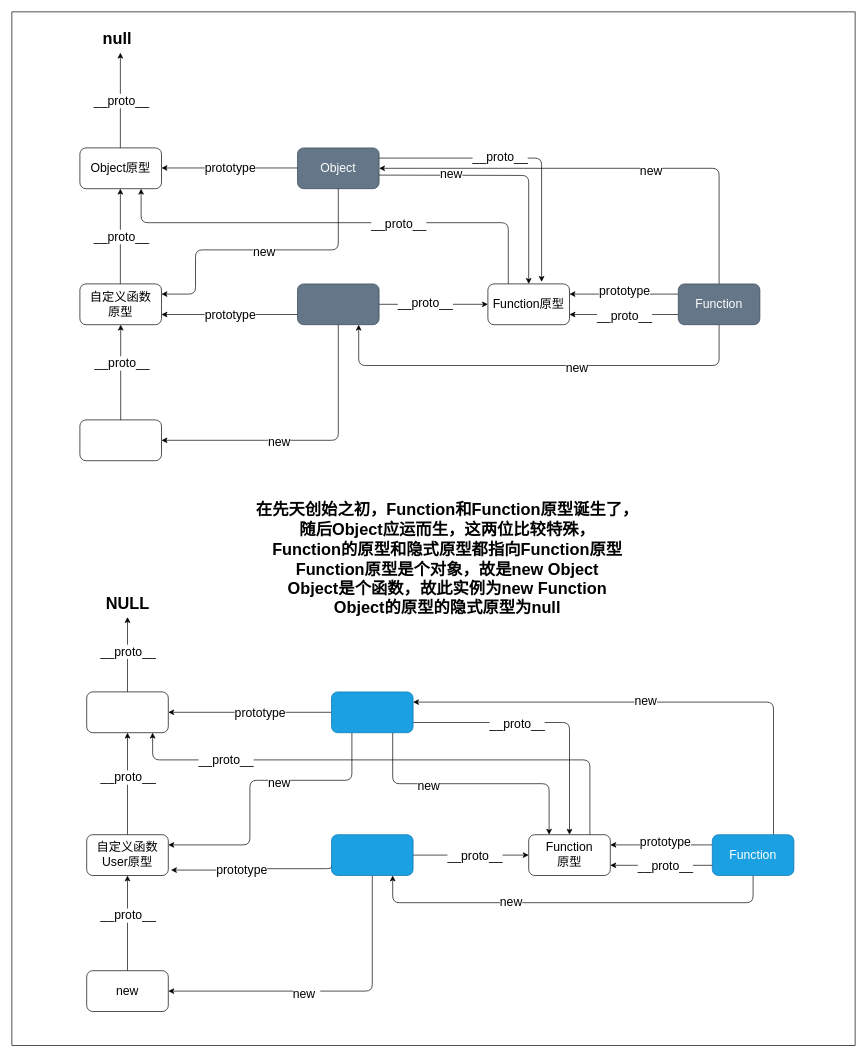
This 867x1057 diagram has some shape labels left out. The shapes that lost their labels are listed below. From the top down, each one's centre as x and y in pixels, then its label:
At (338,304): "自定义函数".
At (120,440): "实例".
At (127,712): "Object函数 原型".
At (372,712): "Object函数".
At (372,855): "自定义函数User".
